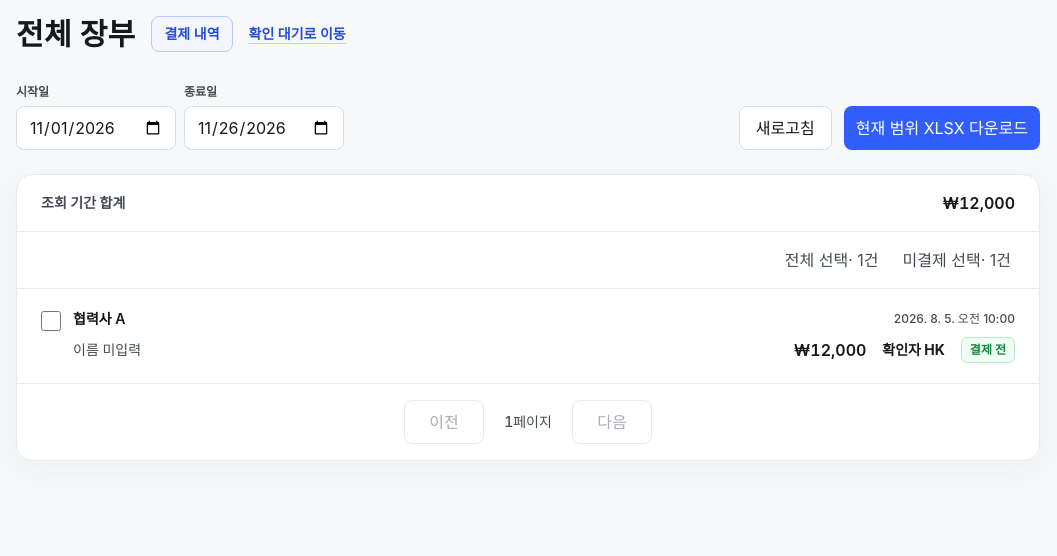
Scenario: MonthlyMealUsageList › retains the last safe rows when a manual reload fails and permits later retry
Expected: the text "협력사 A" is shown, [73, 309, 125, 329]
Click the button "새로고침" at (785, 128), box [739, 106, 832, 150]
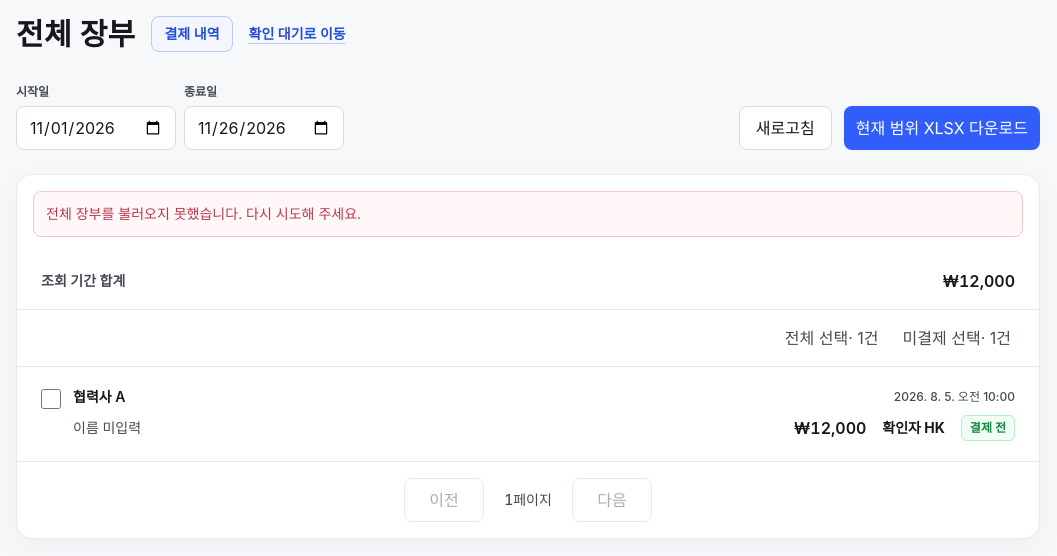
Expected: the text "협력사 A" is shown, [73, 387, 125, 407]
Expected: the message reads "전체 장부를 불러오지 못했습니다. 다시 시도해 주세요.", [46, 205, 361, 222]
Click the button "새로고침" at (785, 128), box [739, 106, 832, 150]
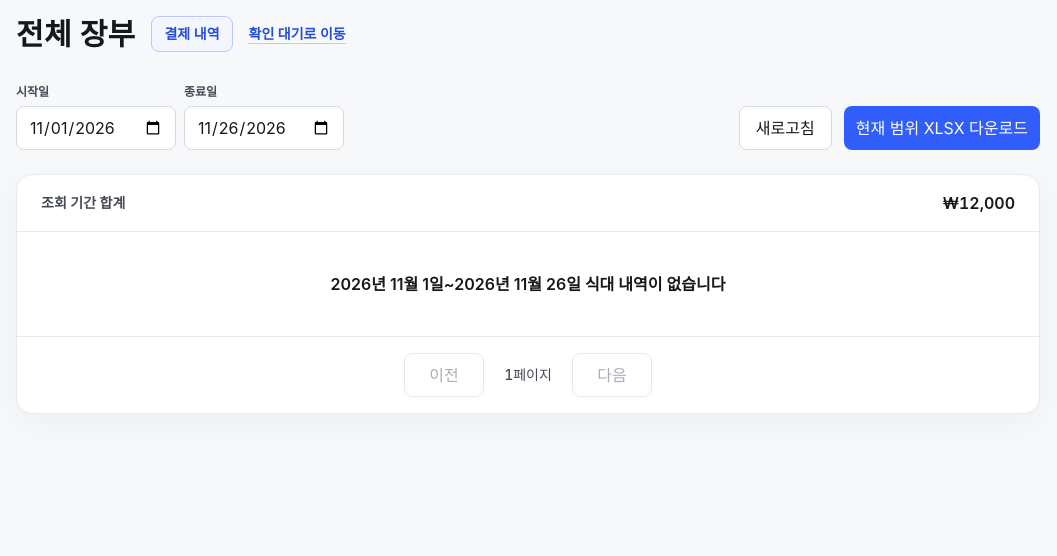
Expected: the heading "2026년 11월 1일~2026년 11월 26일 식대 내역이 없습니다" is shown, [331, 274, 726, 294]
